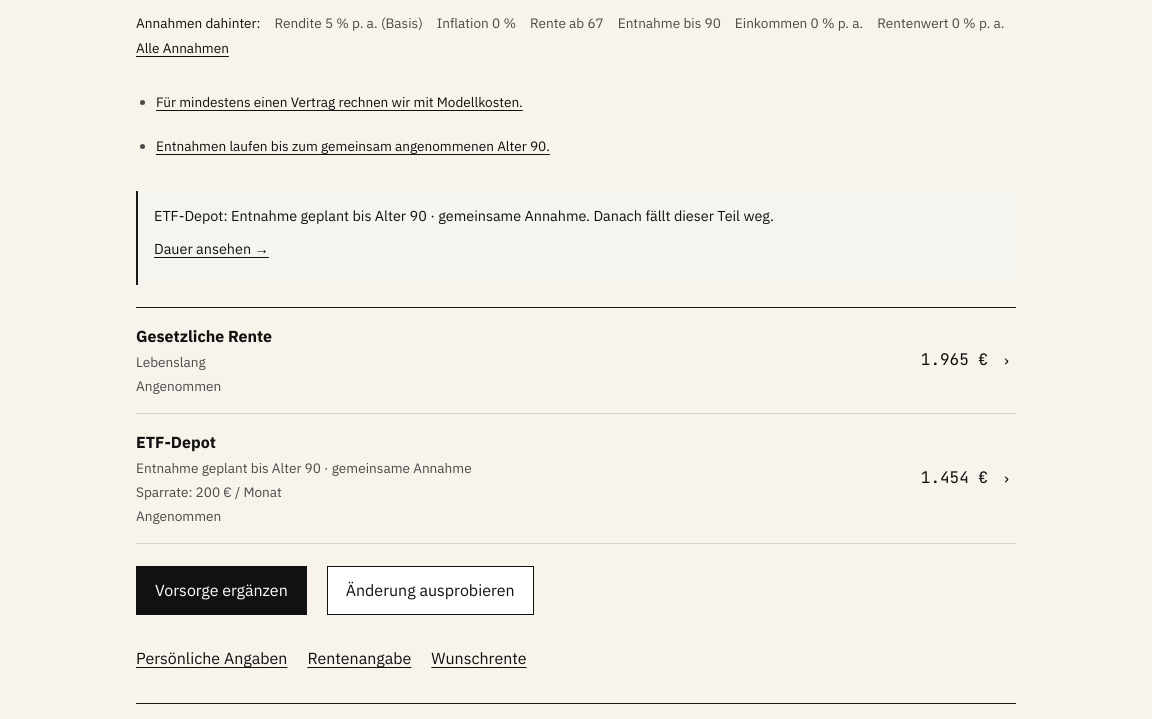
plan navigation and topic arrival (audit F08 / F18) › opens the focused pension step when the statutory row is clicked
This screenshot has width=1152, height=719.
(page scrolled)
Click the button with aria-label "Gesetzliche Rente bearbeiten" at (204, 336), box [136, 308, 1016, 413]
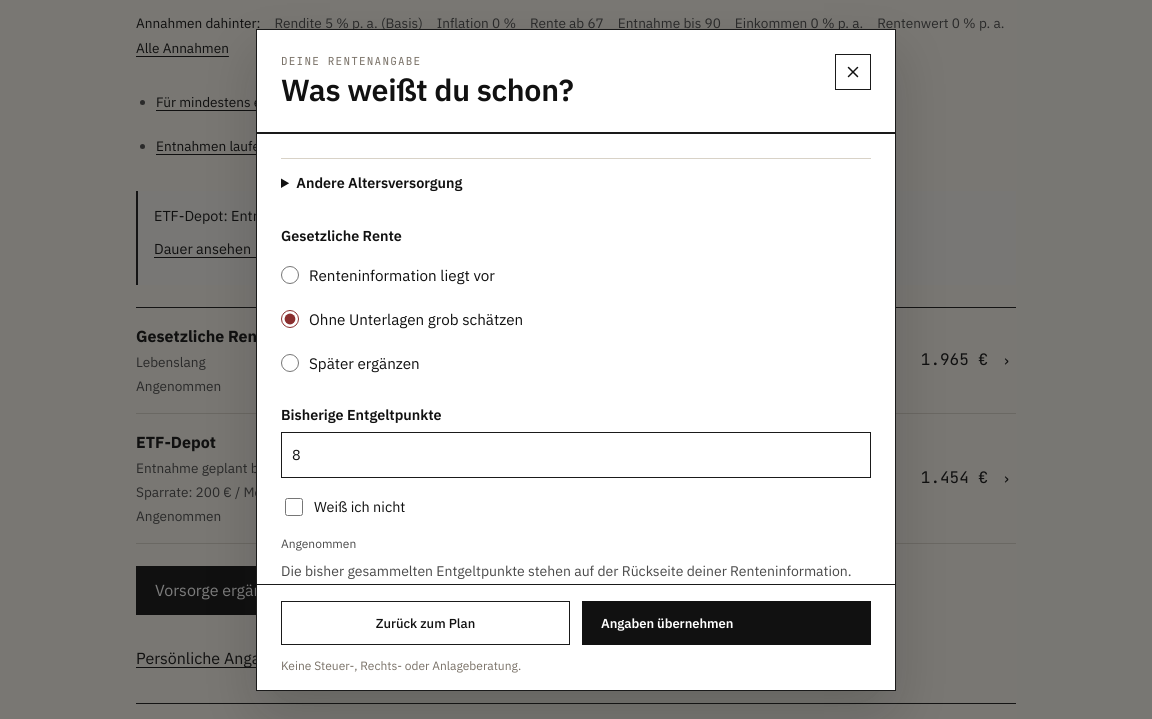
Check: the text "Deine Rentenangabe" is shown, box [281, 54, 421, 68]
